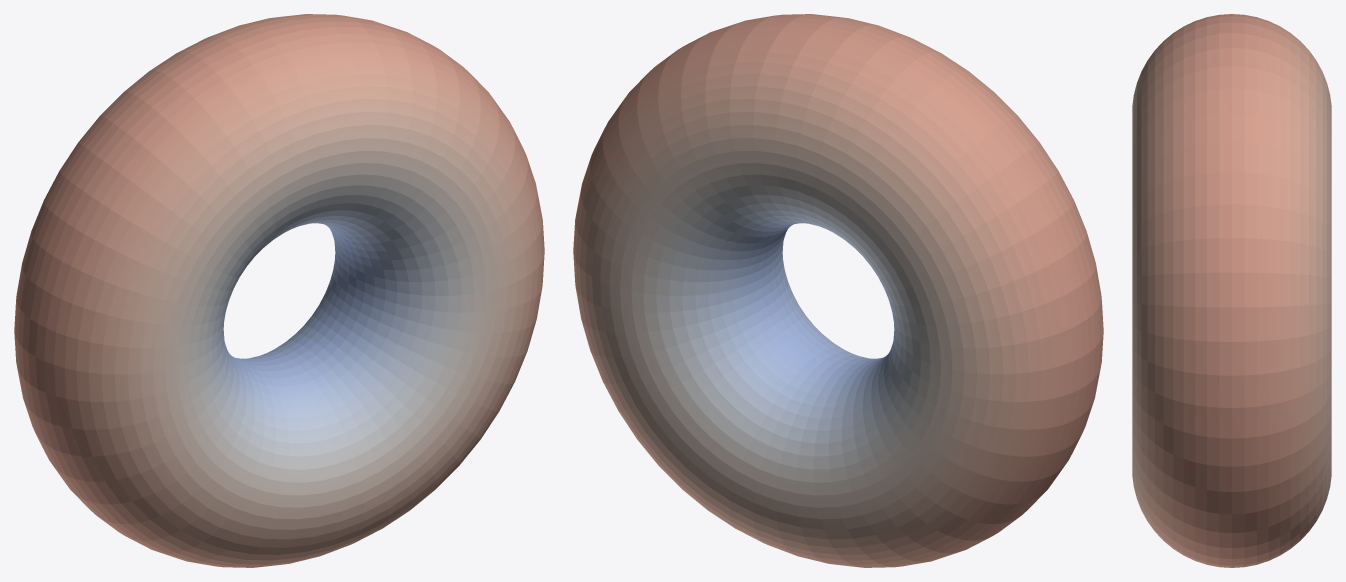
3 renders of one model, left to right at view 1: azimuth 30°, elevation 25°; view 2: azimuth 150°, elevation 25°; view 3: azimuth 270°, elevation 25°, orthographic. The views are drawn at different scales.
Parts seen in each view (by area): view 1: world; view 2: world; view 3: world.
Boxes of the visible parts, <box> form: world: <box>14,14,544,567</box>; world: <box>573,14,1103,567</box>; world: <box>1132,14,1331,567</box>.
Bounding box in the file's own units: 24 × 23.95 × 8.65.
